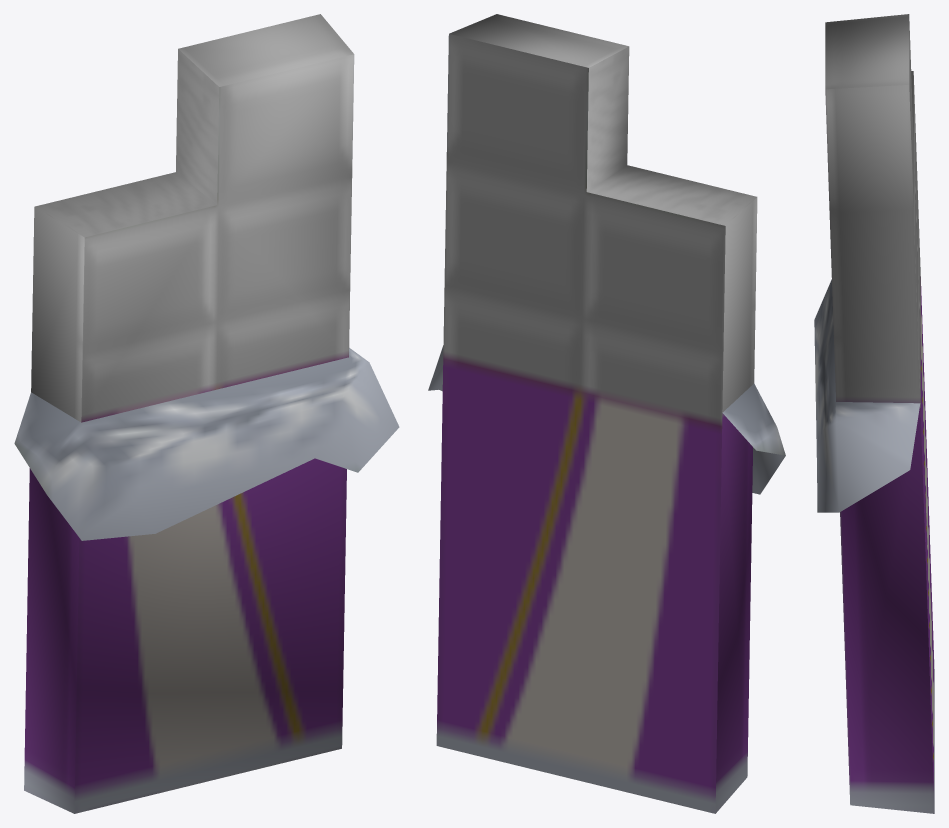
File: H_WhiteChocolate.fbx
3 views of the same model, side by side, from view 1: azimuth 30°, elevation 25°; view 2: azimuth 150°, elevation 25°; view 3: azimuth 270°, elevation 25° (orthographic). The views are drawn at different scales.
Parts seen in each view (by area): view 1: Chocolate001; view 2: Chocolate001; view 3: Chocolate001.
Part boxes in pixels (<box>): Chocolate001: <box>14,14,399,813</box>; Chocolate001: <box>428,14,785,813</box>; Chocolate001: <box>814,14,934,813</box>.
Bounding box in the file's own units: 21.74 × 42.02 × 6.28.
